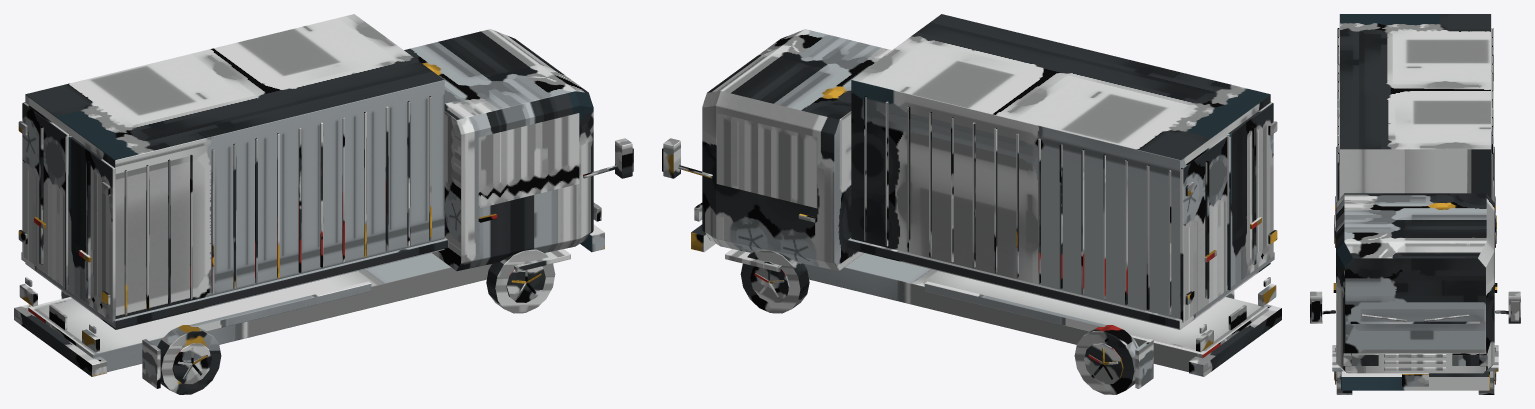
The model's file is delivery_truck.obj.
3 renders of one model, left to right at view 1: azimuth 30°, elevation 25°; view 2: azimuth 150°, elevation 25°; view 3: azimuth 270°, elevation 25°, orthographic. The views are drawn at different scales.
Visible parts, largest first — view 1: delivery_truck; view 2: delivery_truck; view 3: delivery_truck.
Boxes of the visible parts, x1=… form: delivery_truck: x1=14, y1=14, x2=633, y2=394; delivery_truck: x1=662, y1=14, x2=1281, y2=394; delivery_truck: x1=1310, y1=14, x2=1520, y2=394.
Bounding box in the file's own units: 6.2 × 2.87 × 2.6.
Materials: 1 (1 with a texture image).
